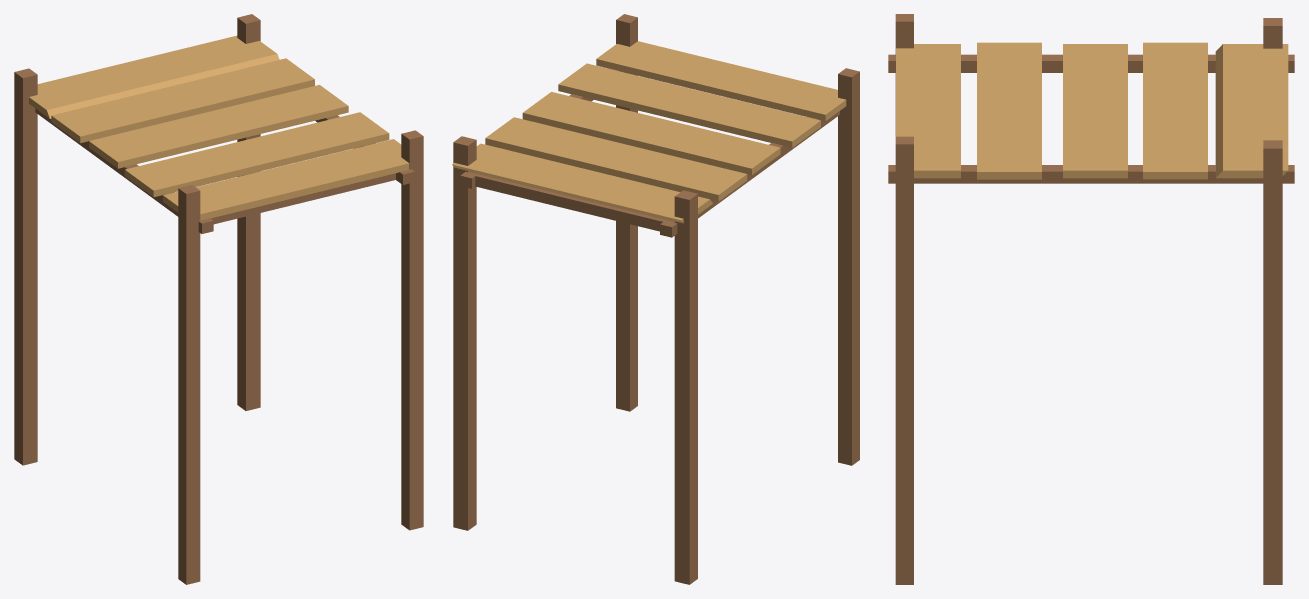
Rendered from M_Pier_Building_1.fbx.
3 views of the same model, side by side, from view 1: azimuth 30°, elevation 25°; view 2: azimuth 150°, elevation 25°; view 3: azimuth 270°, elevation 25° (orthographic). The views are drawn at different scales.
Parts seen in each view (by area): view 1: M_Pier_Building_1; view 2: M_Pier_Building_1; view 3: M_Pier_Building_1.
Boxes of the visible parts, left/top/right/bottom form: M_Pier_Building_1: left=14, top=14, right=423, bottom=584; M_Pier_Building_1: left=452, top=14, right=859, bottom=584; M_Pier_Building_1: left=888, top=14, right=1294, bottom=584.
Size of the model in its own units: 331 by 517 by 433.
